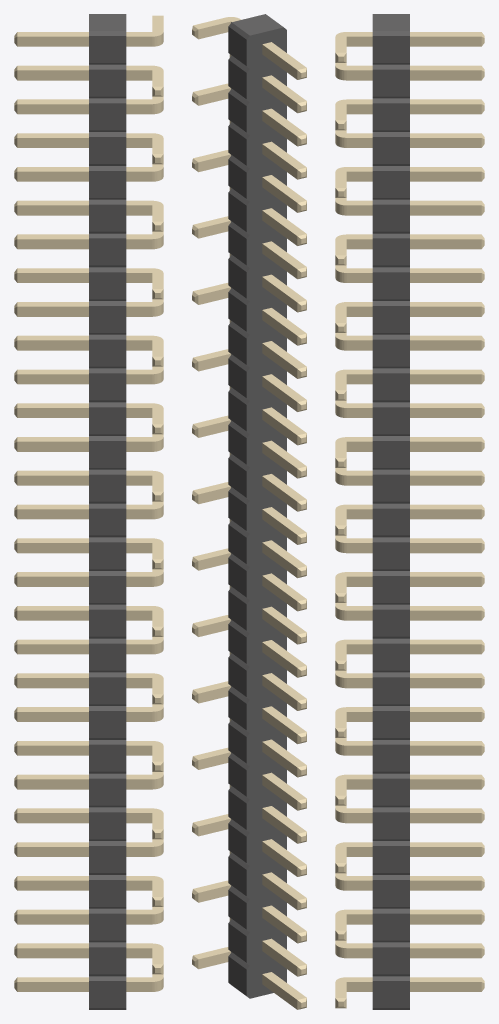
Rendered from PinHeader_1x29_P1.00mm_Vertical_SMD_Pin1Left.glb.
3 views of the same model, side by side, from view 1: azimuth 90°, elevation 25°; view 2: azimuth 210°, elevation 25°; view 3: azimuth 270°, elevation 25° (orthographic).
Visible parts, largest first — view 1: Shape_IndexedFaceSet.013, Shape_IndexedFaceSet.019, Shape_IndexedFaceSet.037, Shape_IndexedFaceSet.043, Shape_IndexedFaceSet.049, Shape_IndexedFaceSet.061, Shape_IndexedFaceSet.067, Shape_IndexedFaceSet.073, Shape_IndexedFaceSet.085, Shape_IndexedFaceSet.097, Shape_IndexedFaceSet.109, Shape_IndexedFaceSet.115 (+74 smaller); view 2: Shape_IndexedFaceSet.004, Shape_IndexedFaceSet.001, Shape_IndexedFaceSet.058, Shape_IndexedFaceSet.082, Shape_IndexedFaceSet.106, Shape_IndexedFaceSet.112, Shape_IndexedFaceSet.136, Shape_IndexedFaceSet.016, Shape_IndexedFaceSet.022, Shape_IndexedFaceSet.028, Shape_IndexedFaceSet.040, Shape_IndexedFaceSet.046 (+92 smaller); view 3: Shape_IndexedFaceSet.010, Shape_IndexedFaceSet.016, Shape_IndexedFaceSet.034, Shape_IndexedFaceSet.040, Shape_IndexedFaceSet.046, Shape_IndexedFaceSet.058, Shape_IndexedFaceSet.064, Shape_IndexedFaceSet.070, Shape_IndexedFaceSet.082, Shape_IndexedFaceSet.094, Shape_IndexedFaceSet.106, Shape_IndexedFaceSet.112 (+74 smaller).
Boxes of the visible parts, x1,y1,x2,y2 form: Shape_IndexedFaceSet.013: (89,69,126,96); Shape_IndexedFaceSet.019: (89,103,126,130); Shape_IndexedFaceSet.037: (89,204,126,231); Shape_IndexedFaceSet.043: (89,238,126,265); Shape_IndexedFaceSet.049: (89,272,126,299); Shape_IndexedFaceSet.061: (89,339,126,366); Shape_IndexedFaceSet.067: (89,373,126,400); Shape_IndexedFaceSet.073: (89,407,126,434); Shape_IndexedFaceSet.085: (89,474,126,501); Shape_IndexedFaceSet.097: (89,542,126,569); Shape_IndexedFaceSet.109: (89,609,126,636); Shape_IndexedFaceSet.115: (89,643,126,670); Shape_IndexedFaceSet.004: (246,27,286,998); Shape_IndexedFaceSet.001: (232,14,283,35); Shape_IndexedFaceSet.058: (228,325,246,364); Shape_IndexedFaceSet.082: (228,458,246,497); Shape_IndexedFaceSet.106: (228,591,246,630); Shape_IndexedFaceSet.112: (228,624,246,663); Shape_IndexedFaceSet.136: (228,757,246,796); Shape_IndexedFaceSet.016: (228,93,246,132); Shape_IndexedFaceSet.022: (228,126,246,165); Shape_IndexedFaceSet.028: (228,159,246,198); Shape_IndexedFaceSet.040: (228,226,246,265); Shape_IndexedFaceSet.046: (228,259,246,298); Shape_IndexedFaceSet.010: (372,69,409,96); Shape_IndexedFaceSet.016: (372,103,409,130); Shape_IndexedFaceSet.034: (372,204,409,231); Shape_IndexedFaceSet.040: (372,238,409,265); Shape_IndexedFaceSet.046: (372,272,409,299); Shape_IndexedFaceSet.058: (372,339,409,366); Shape_IndexedFaceSet.064: (372,373,409,400); Shape_IndexedFaceSet.070: (372,407,409,434); Shape_IndexedFaceSet.082: (372,474,409,501); Shape_IndexedFaceSet.094: (372,542,409,569); Shape_IndexedFaceSet.106: (372,609,409,636); Shape_IndexedFaceSet.112: (372,643,409,670).
Size of the model in its own units: 0.984 by 11.42 by 1.58.
